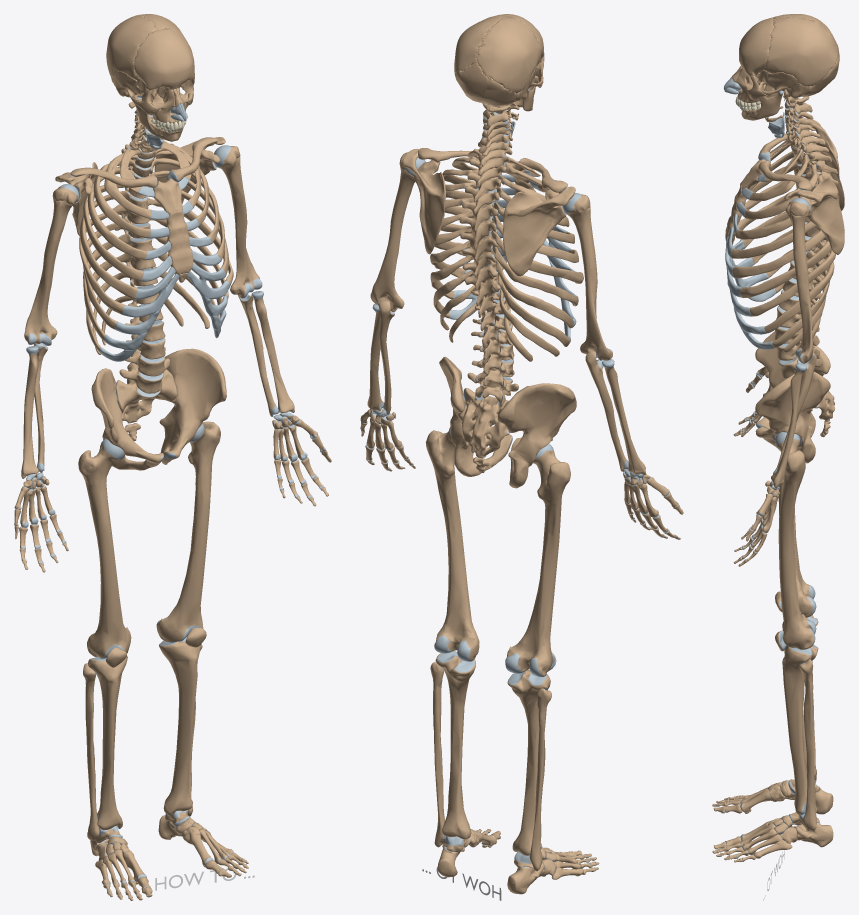
Rendered from skeletal.glb.
The picture shows the model from 3 angles, left to right: view 1: azimuth 30°, elevation 25°; view 2: azimuth 150°, elevation 25°; view 3: azimuth 270°, elevation 25°; orthographic projection. The views are drawn at different scales.
Parts seen in each view (by area): view 1: Femur.r, Femur.l, Hip bone.l, Tibia.l, Frontal bone, Tibia.r, Humerus.r, Humerus.l, Hip bone.r, Parietal bone.r, Sacrum, Fibula.r (+18 smaller); view 2: Femur.r, Femur.l, Hip bone.r, Scapula.r, Parietal bone.r, Tibia.l, Tibia.r, Humerus.r, Humerus.l, Hip bone.l, Scapula.l, Sacrum (+15 smaller); view 3: Femur.l, Parietal bone.l, Tibia.l, Hip bone.l, Humerus.l, Scapula.l, Fibula.l, Frontal bone, Hip bone.r, Radius.l, Femur.r, Seventh rib.l (+25 smaller).
Part boxes in pixels (left/top/right/bottom): Femur.r: left=78, top=438, right=131, bottom=658; Femur.l: left=156, top=421, right=220, bottom=642; Hip bone.l: left=159, top=348, right=226, bottom=464; Tibia.l: left=159, top=636, right=201, bottom=816; Frontal bone: left=134, top=28, right=194, bottom=91; Tibia.r: left=88, top=656, right=127, bottom=830; Humerus.r: left=24, top=184, right=79, bottom=345; Humerus.l: left=213, top=145, right=262, bottom=298; Hip bone.r: left=91, top=368, right=163, bottom=470; Parietal bone.r: left=106, top=15, right=158, bottom=79; Sacrum: left=115, top=369, right=176, bottom=423; Fibula.r: left=83, top=663, right=99, bottom=840; Femur.r: left=505, top=443, right=570, bottom=676; Femur.l: left=425, top=427, right=479, bottom=661; Hip bone.r: left=497, top=383, right=576, bottom=488; Scapula.r: left=503, top=186, right=575, bottom=276; Parietal bone.r: left=476, top=16, right=541, bottom=93; Tibia.l: left=435, top=651, right=475, bottom=839; Tibia.r: left=507, top=670, right=550, bottom=855; Humerus.r: left=563, top=193, right=612, bottom=360; Humerus.l: left=370, top=152, right=425, bottom=311; Hip bone.l: left=439, top=356, right=512, bottom=476; Scapula.l: left=402, top=148, right=445, bottom=254; Sacrum: left=461, top=388, right=509, bottom=457; Femur.l: left=775, top=432, right=816, bottom=649; Parietal bone.l: left=763, top=17, right=837, bottom=86; Tibia.l: left=782, top=644, right=818, bottom=814; Hip bone.l: left=755, top=371, right=830, bottom=463; Humerus.l: left=785, top=198, right=813, bottom=363; Scapula.l: left=784, top=177, right=844, bottom=254; Fibula.l: left=799, top=659, right=816, bottom=830; Frontal bone: left=739, top=17, right=774, bottom=76; Hip bone.r: left=755, top=331, right=830, bottom=437; Radius.l: left=771, top=363, right=806, bottom=488; Femur.r: left=778, top=478, right=816, bottom=617; Seventh rib.l: left=740, top=241, right=831, bottom=297.
Bounding box in the file's own units: 0.6693 × 1.76 × 0.2501.
